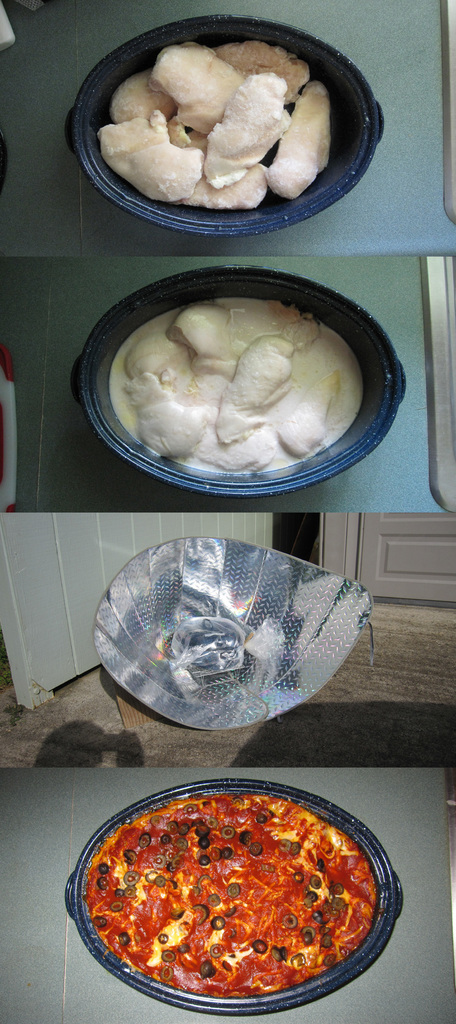Pizza: (79, 781, 392, 1013)
